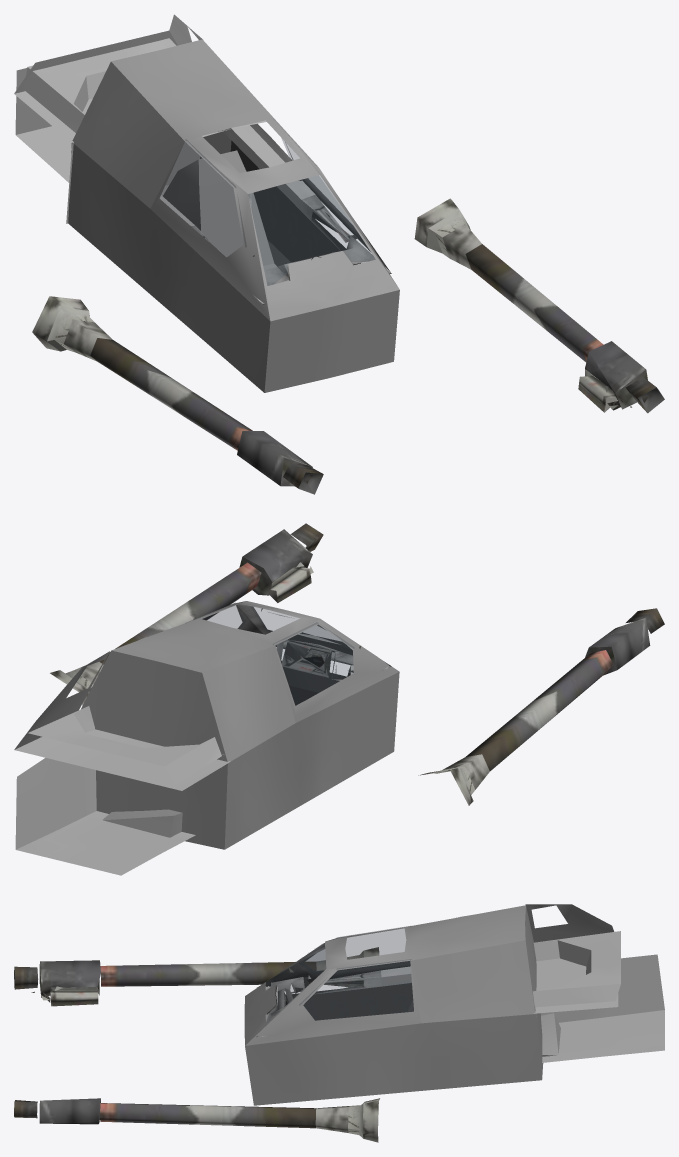
The model's file is snowspeedercockpit.lod1.glb.
3 views of the same model, one above another, from view 1: azimuth 30°, elevation 25°; view 2: azimuth 150°, elevation 25°; view 3: azimuth 270°, elevation 25° (orthographic). The views are drawn at different scales.
Bounding box in the file's own units: 2.85 × 1.28 × 4.67.
Materials: 4 (3 with a texture image).
